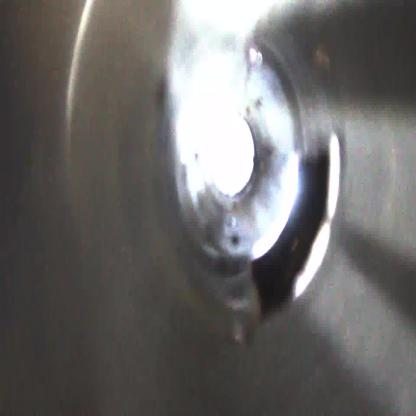Crack2: (249, 130, 346, 324)
